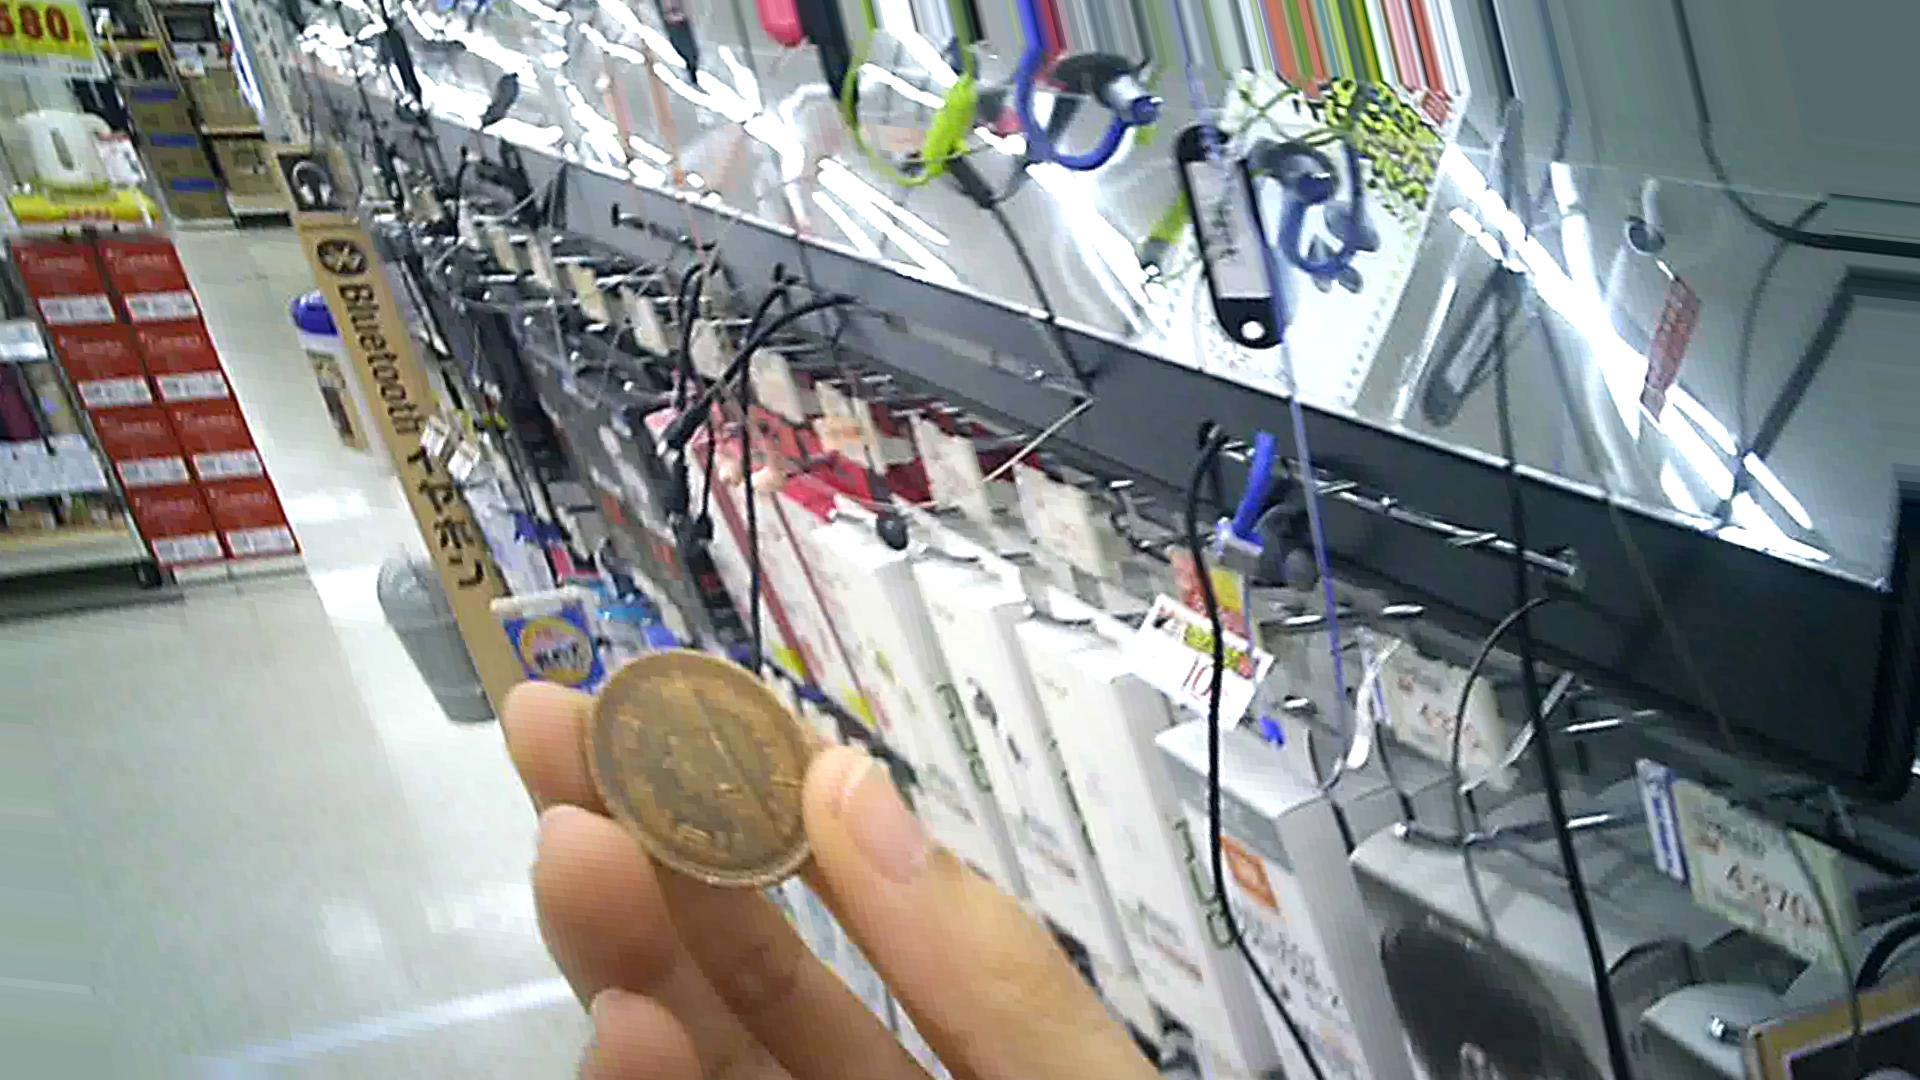10 Yen: (580, 650, 835, 913)
